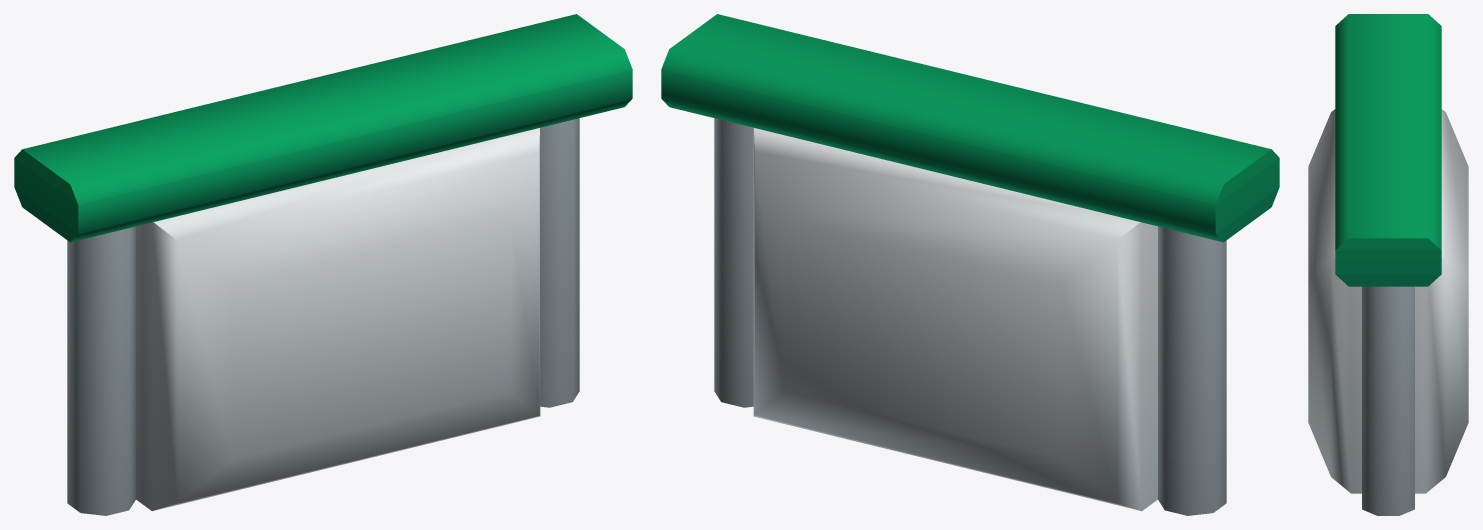
Rendered from railing_straight_padded_green.glb.
3 views of the same model, side by side, from view 1: azimuth 30°, elevation 25°; view 2: azimuth 150°, elevation 25°; view 3: azimuth 270°, elevation 25° (orthographic). The views are drawn at different scales.
Parts seen in each view (by area): view 1: railing_straight_padded_green; view 2: railing_straight_padded_green; view 3: railing_straight_padded_green.
Part boxes in pixels (left/top/right/bottom): railing_straight_padded_green: left=14, top=14, right=632, bottom=515; railing_straight_padded_green: left=661, top=14, right=1279, bottom=515; railing_straight_padded_green: left=1308, top=14, right=1468, bottom=515.
Size of the model in its own units: 2 by 1.2 by 0.6028.
Materials: 1 (1 with a texture image).
